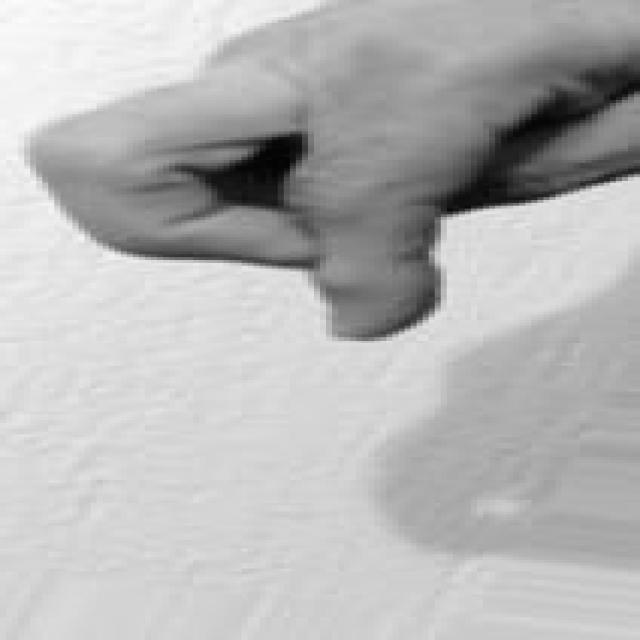P: (18, 0, 640, 340)
